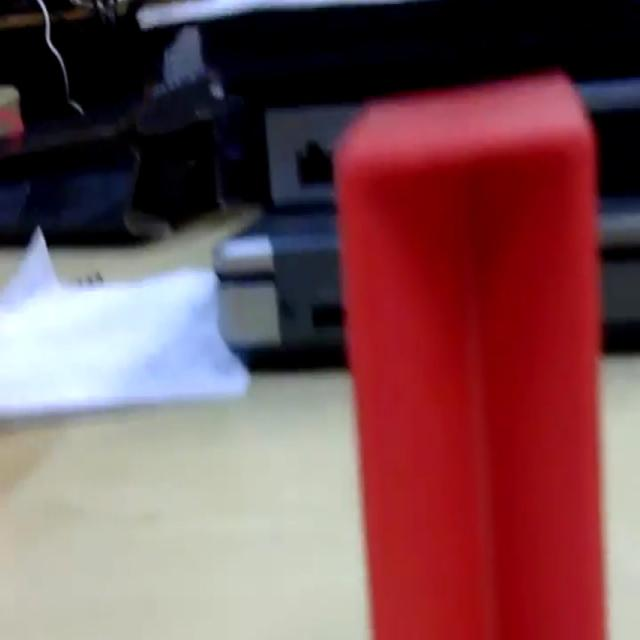red_block: (332, 68, 608, 636)
